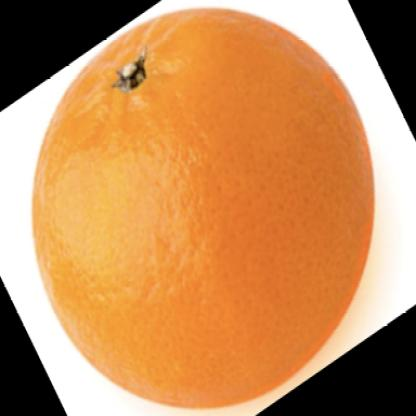fresh: (36, 9, 375, 404)
